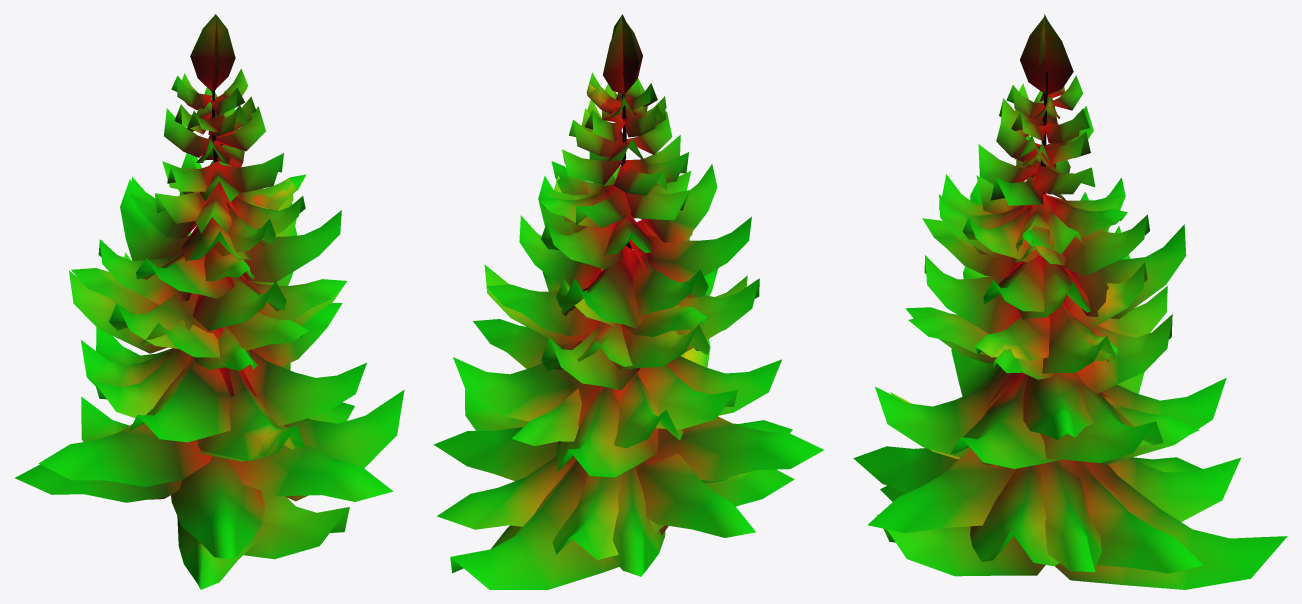
The model's file is Spruce_Small_1.fbx.
The picture shows the model from 3 angles, left to right: view 1: azimuth 30°, elevation 25°; view 2: azimuth 150°, elevation 25°; view 3: azimuth 270°, elevation 25°; orthographic projection. The views are drawn at different scales.
Visible parts, largest first — view 1: Spruce_Small_1; view 2: Spruce_Small_1; view 3: Spruce_Small_1.
Boxes of the visible parts, x1=… form: Spruce_Small_1: x1=15, y1=14, x2=404, y2=589; Spruce_Small_1: x1=433, y1=14, x2=823, y2=589; Spruce_Small_1: x1=853, y1=14, x2=1287, y2=589.
Bounding box in the file's own units: 6.46 × 8.83 × 6.38.
